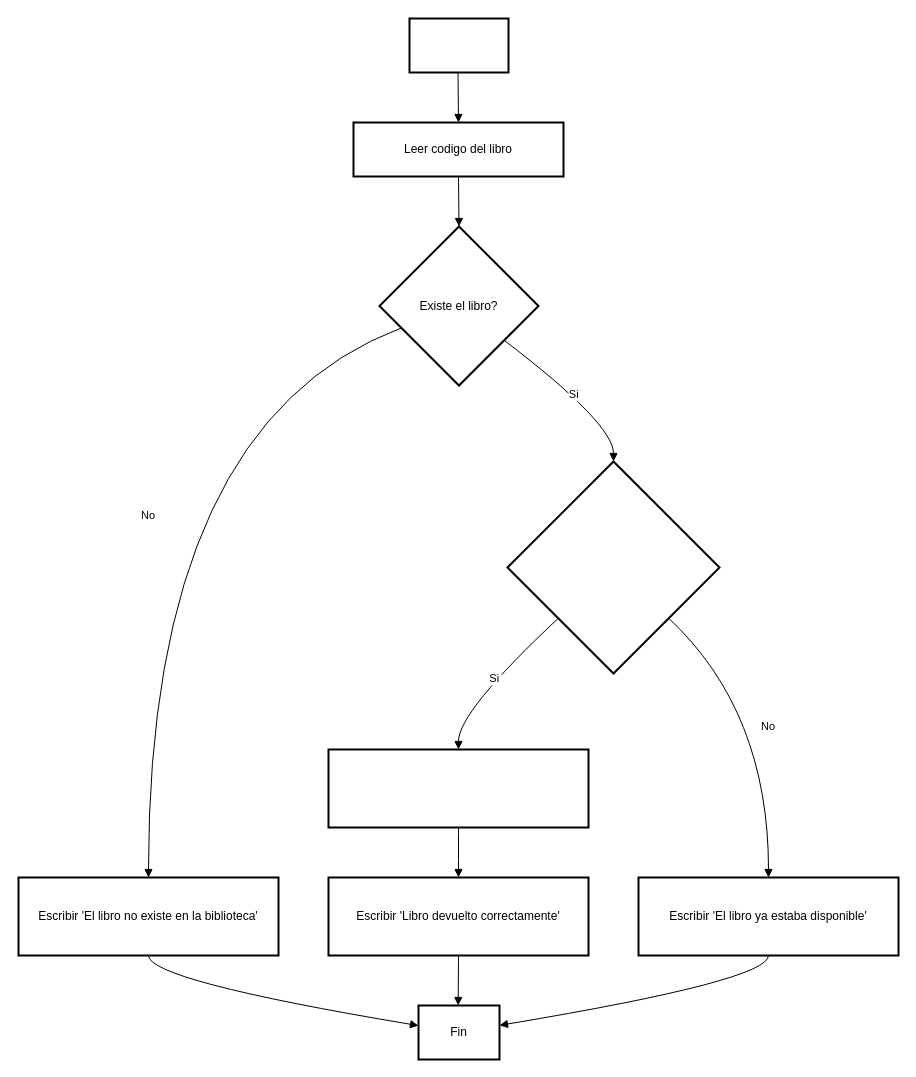
The diagram is 916 pixels wide and 1077 high, and some of its shapes have lost their labels. The shapes that lost their labels are listed below. From the top down, each one's centre as x and y in pixels, then its label:
pixel 458 45: Inicio
pixel 613 567: El libro esta prestado?
pixel 458 788: Cambiar disponibilidad a 'disponible'
